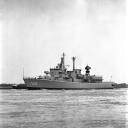Fragata: (22, 51, 117, 93)
